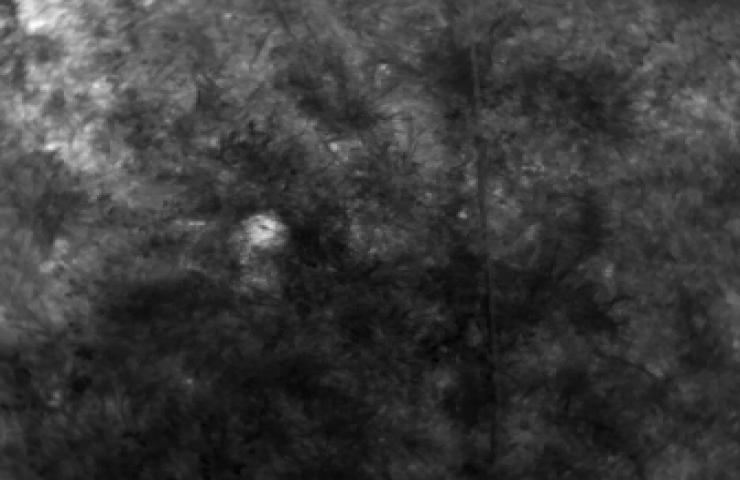landmines: (240, 211, 287, 249)
